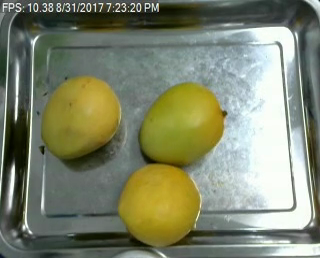Mango: (40, 74, 124, 159), (141, 82, 225, 166), (116, 165, 199, 244)
